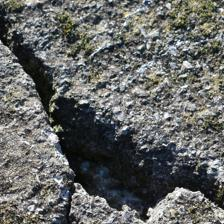Crack: (100, 0, 218, 99), (0, 0, 98, 90), (53, 73, 79, 142)
